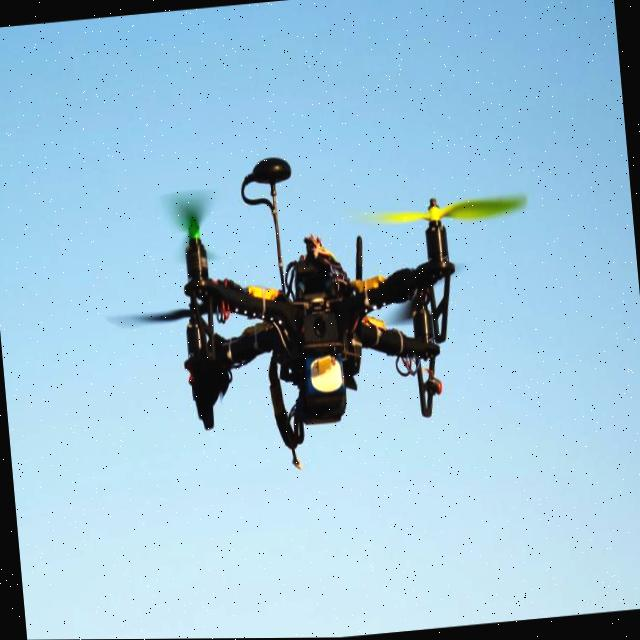drone: (121, 142, 528, 480)
